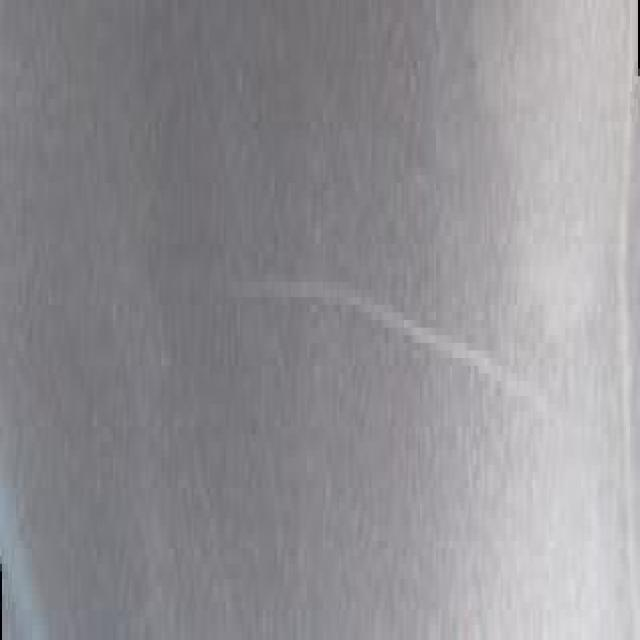scratch: (262, 232, 544, 453)
